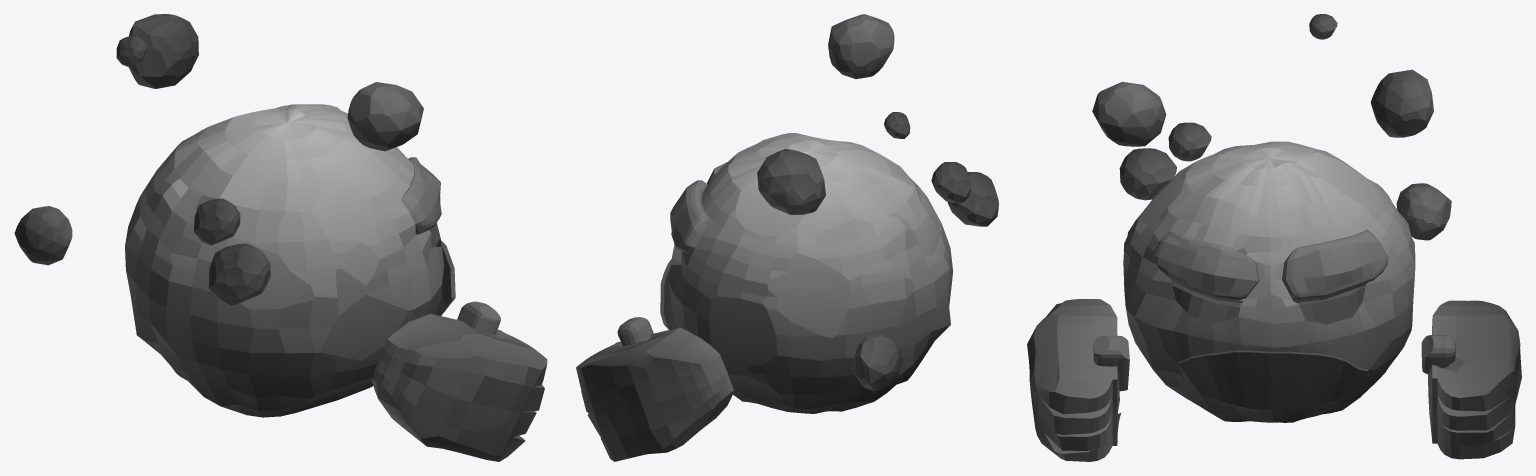
Rendered from rocosomov (1).fbx.
3 views of the same model, side by side, from view 1: azimuth 30°, elevation 25°; view 2: azimuth 150°, elevation 25°; view 3: azimuth 270°, elevation 25° (orthographic). The views are drawn at different scales.
Visible parts, largest first — view 1: rocoso; view 2: rocoso; view 3: rocoso.
Part boxes in pixels (x1,y1,x2,y2): rocoso: (14,14,547,461); rocoso: (576,14,998,461); rocoso: (1027,14,1521,461).
Size of the model in its own units: 379 by 412 by 537.
Materials: 4 (4 with a texture image).
